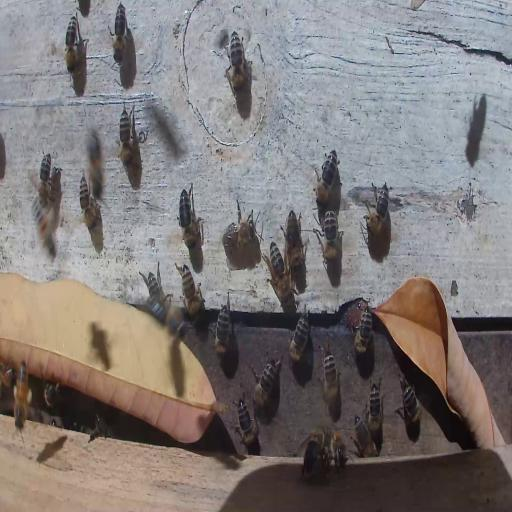nonpollenbee: (249, 351, 282, 411), (312, 148, 340, 207), (308, 424, 345, 465), (178, 183, 202, 245), (316, 209, 342, 266), (269, 242, 292, 306), (144, 268, 170, 324), (397, 374, 423, 430), (179, 262, 202, 321), (366, 180, 390, 236), (236, 396, 259, 453), (322, 348, 340, 420), (284, 210, 303, 278), (79, 172, 100, 233), (221, 220, 261, 250), (289, 306, 310, 362), (228, 31, 246, 95), (352, 303, 374, 353), (118, 103, 133, 171), (353, 415, 377, 457), (111, 2, 127, 64), (213, 302, 231, 354), (302, 438, 321, 482), (369, 379, 383, 437), (38, 150, 52, 207), (66, 14, 78, 74), (91, 412, 109, 440), (174, 322, 194, 345), (44, 380, 60, 408), (0, 366, 16, 389)
pollenbee: (86, 123, 109, 201), (13, 359, 33, 431)
